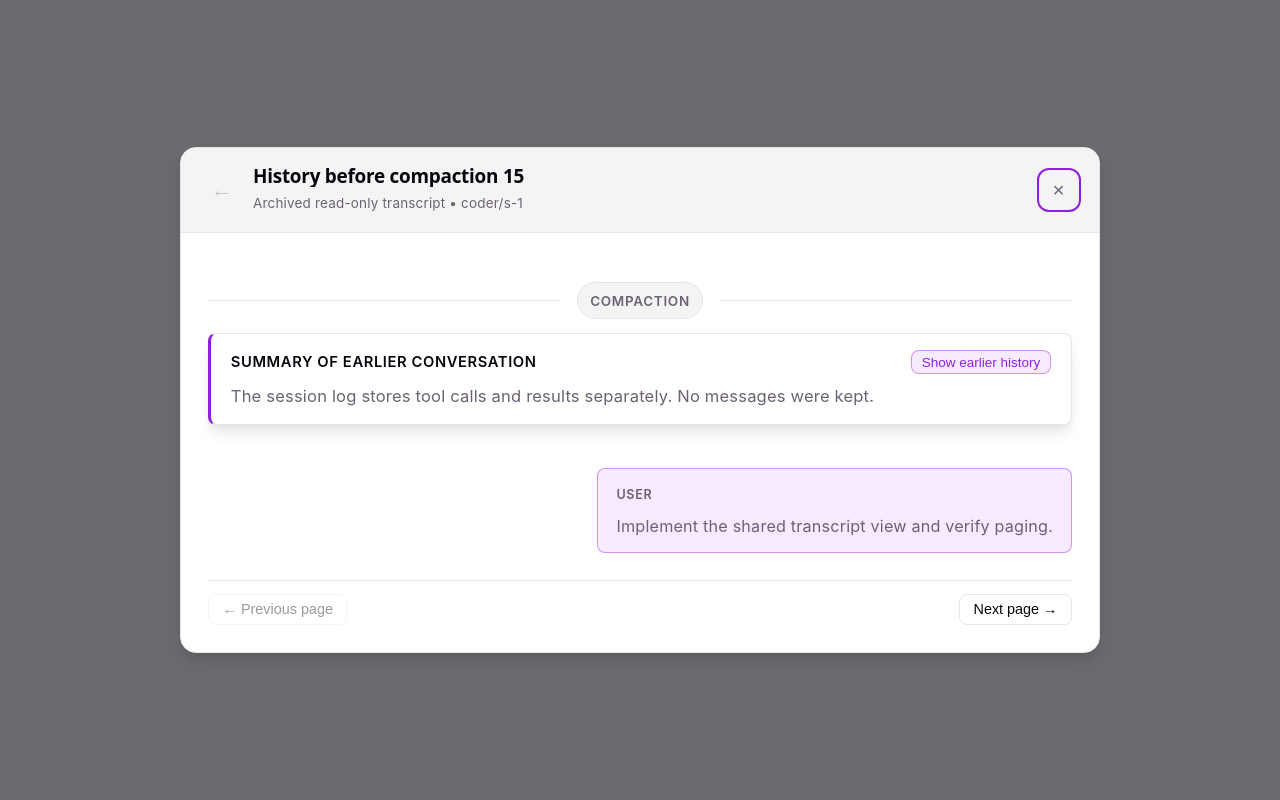
Test: ArchivedHistoryViewer (D4 browse-back) › pages via next_cursor and prev_cursor
This screenshot has width=1280, height=800.
Expected: the button "← Previous page" is disabled, top-left (208, 594), bottom-right (347, 625)
Note: Click Next
Click the button "Next page →" at (1016, 609), box top-left (959, 594), bottom-right (1072, 625)
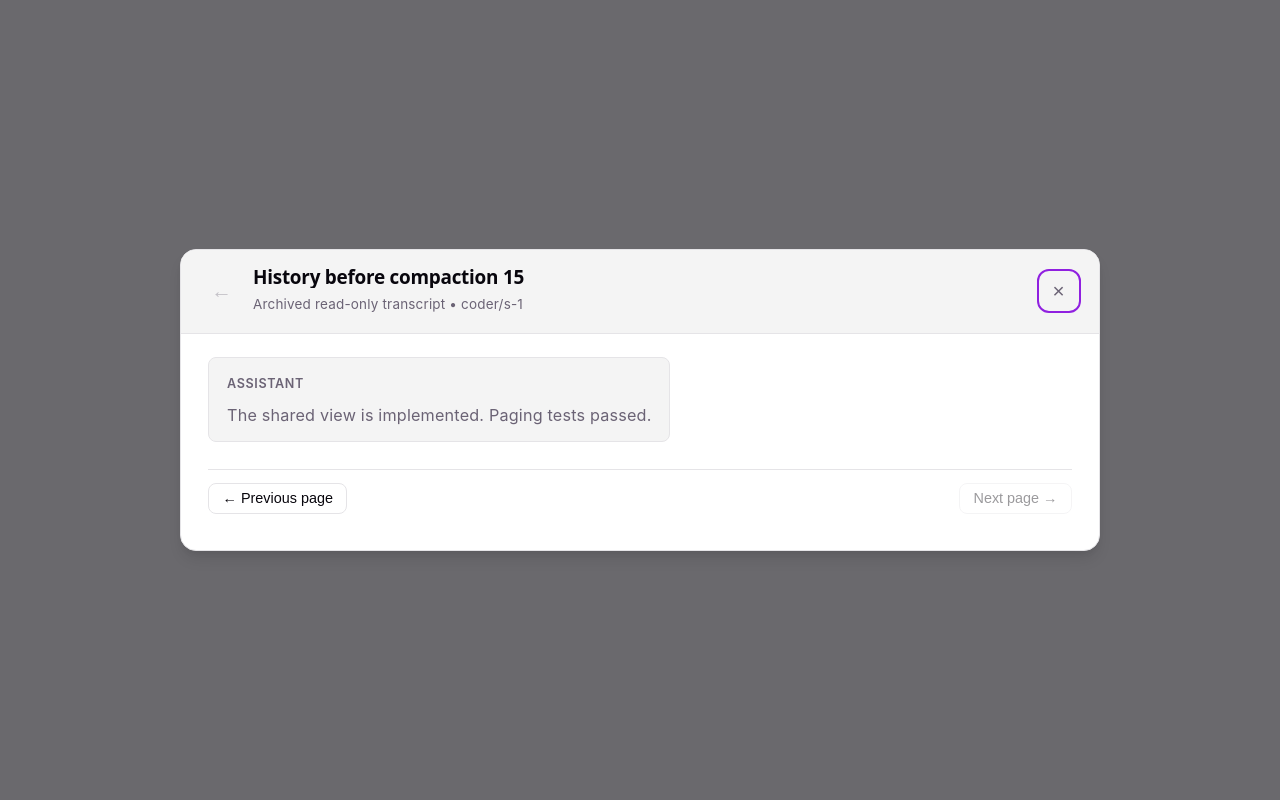
Expected: the text "The shared view is implemented. Paging tests passed." is shown, top-left (227, 403), bottom-right (652, 427)
Expected: the button "Next page →" is disabled, top-left (959, 483), bottom-right (1072, 514)
Expected: the button "← Previous page" is enabled
Note: Click Previous
Click the button "← Previous page" at (278, 498), box top-left (208, 483), bottom-right (347, 514)
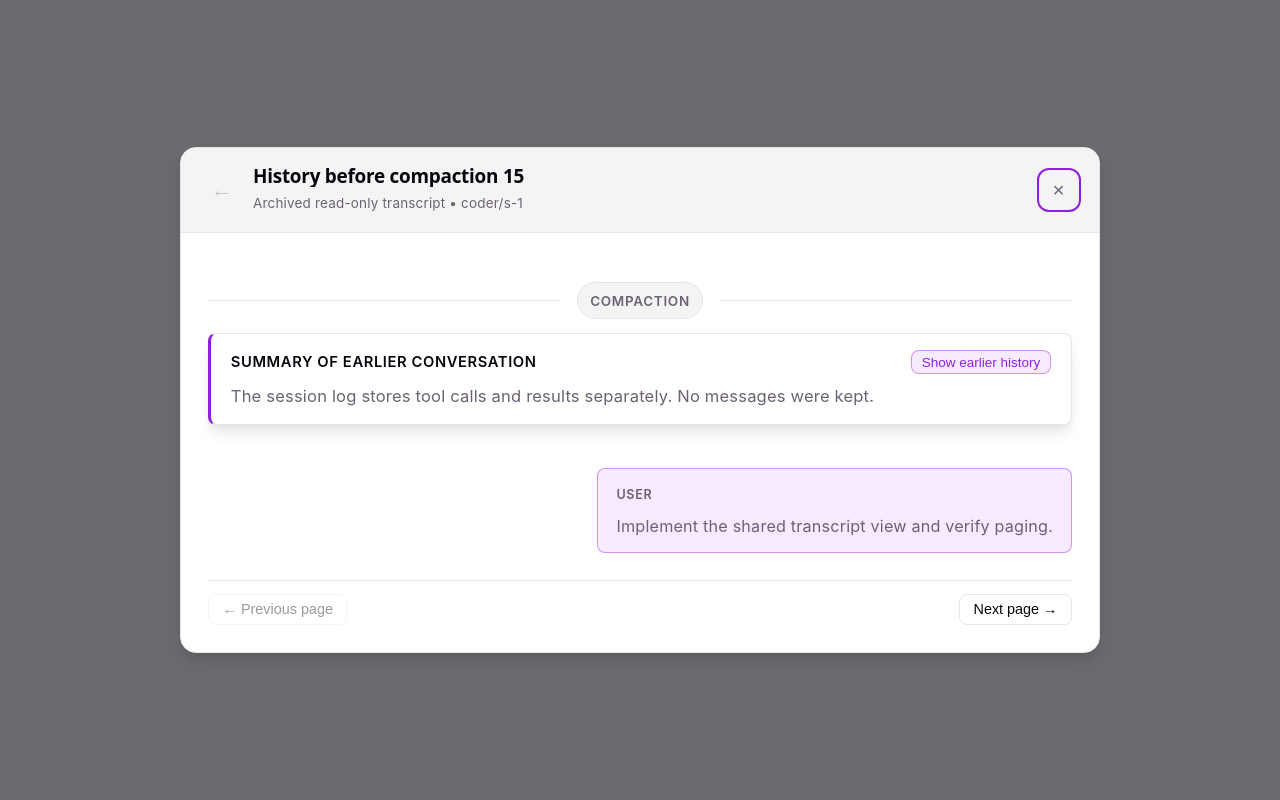
Expected: the text "Implement the shared transcript view and verify paging." is shown, top-left (616, 514), bottom-right (1053, 538)
